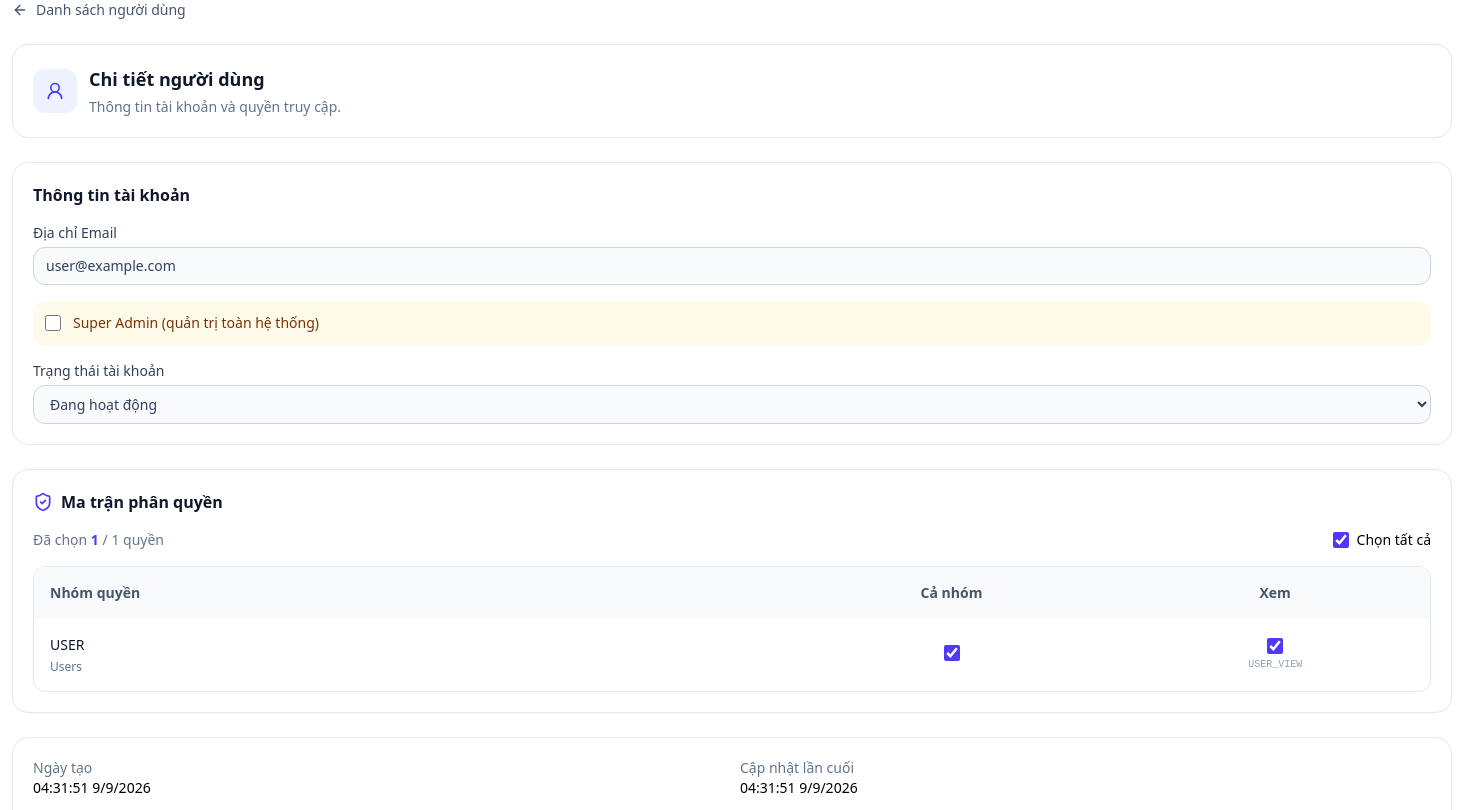
retains edits when PATCH fails
Expected: the checkbox named "USER: Xem (USER_VIEW)" is shown, top-left (1267, 638), bottom-right (1283, 654)
Replace the text in the field labelled "Địa chỉ Email" with "changed@example.com". click: (732, 266)
box: top-left (33, 247), bottom-right (1431, 285)
(page scrolled)
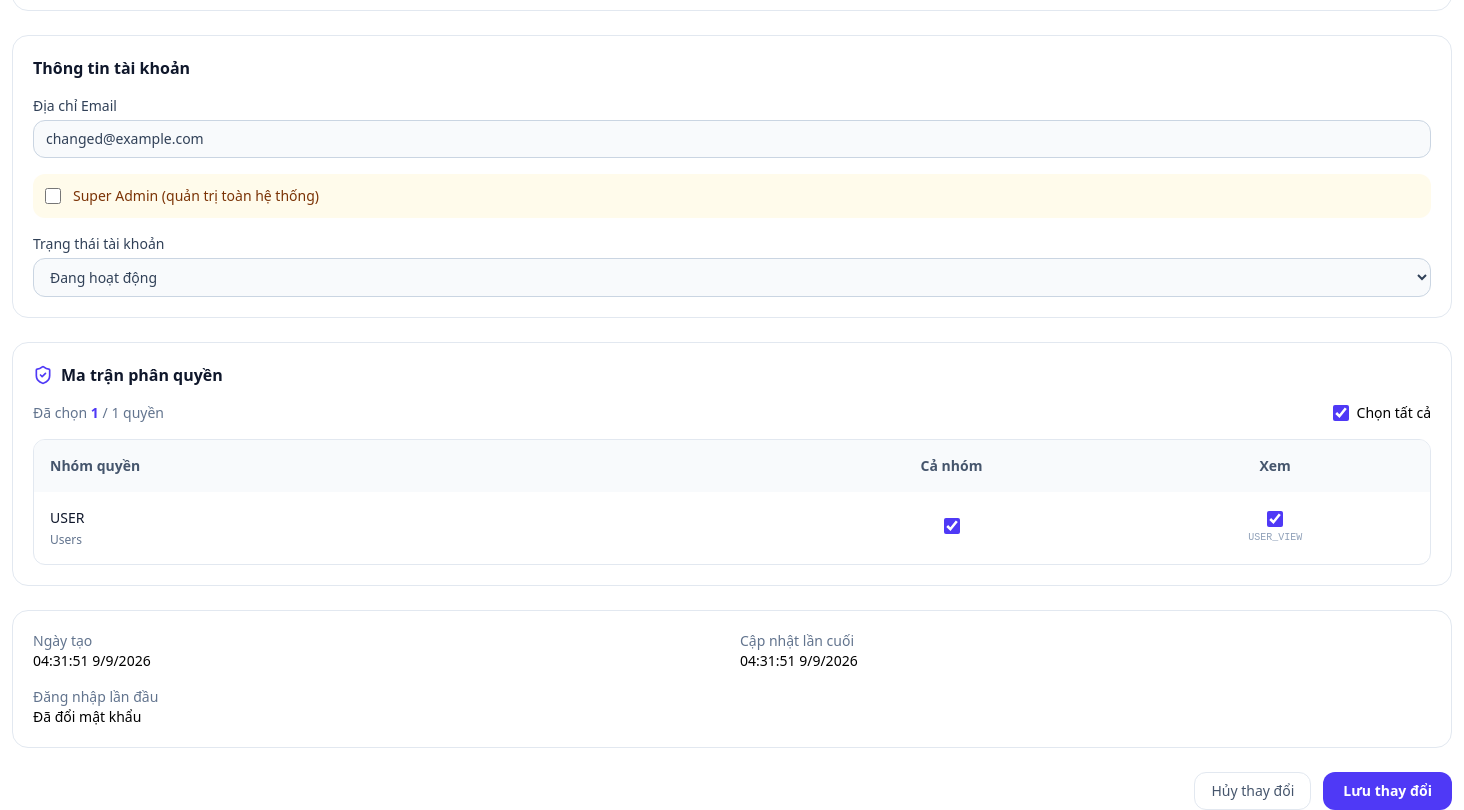
Click the button "Lưu thay đổi". click: (1388, 791)
box: top-left (1323, 772), bottom-right (1452, 809)
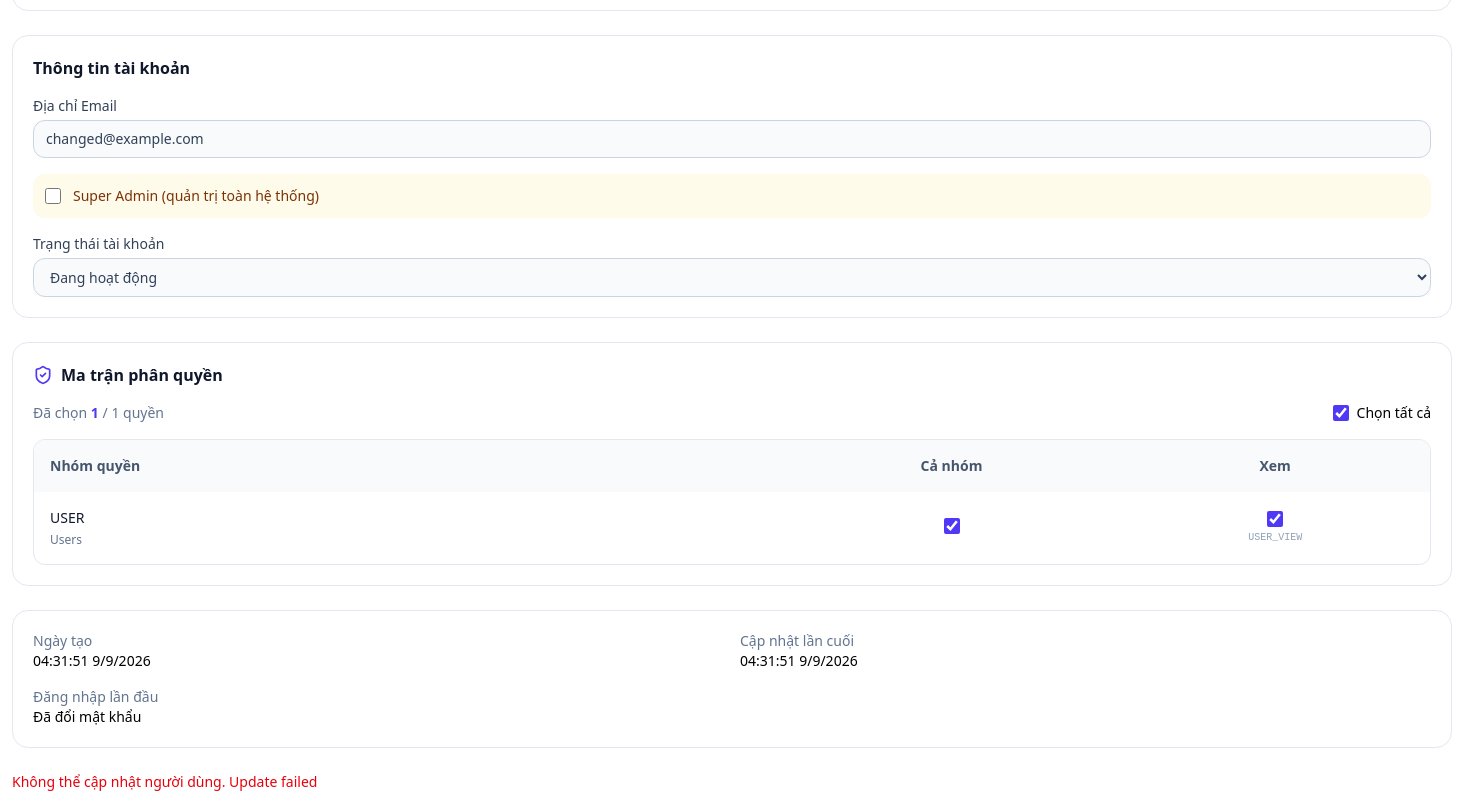
Expected: the message "Không thể cập nhật người dùng. Update failed" is shown, top-left (12, 772), bottom-right (317, 791)
